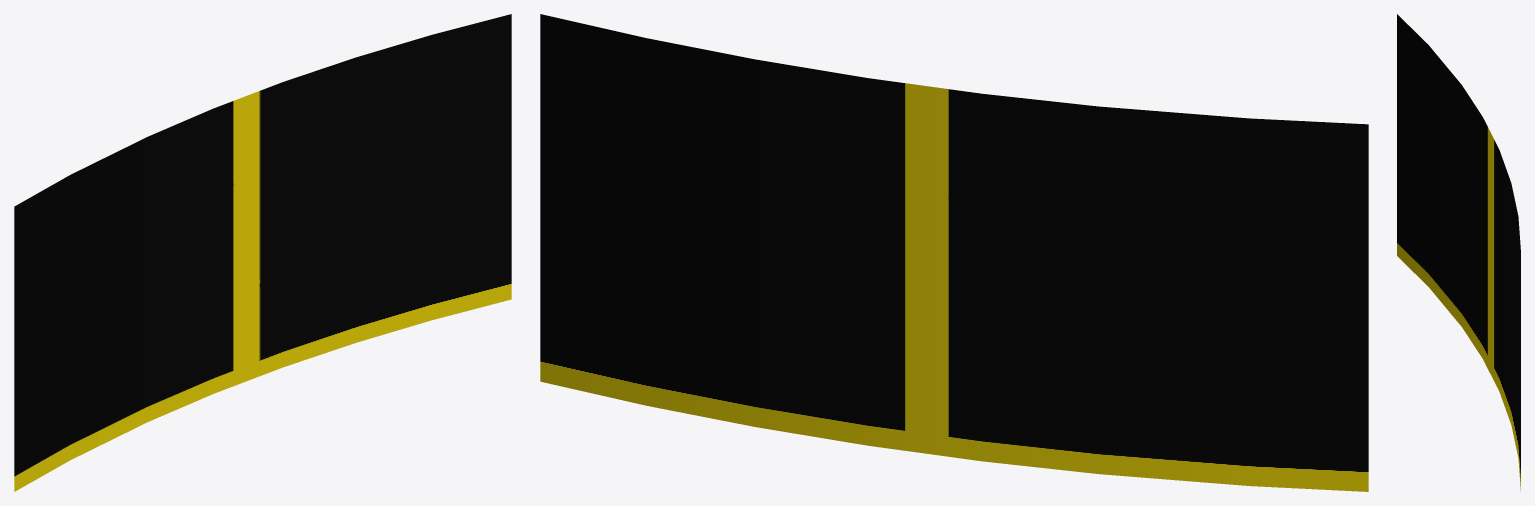
File: Wall-curved.fbx
The picture shows the model from 3 angles, left to right: view 1: azimuth 30°, elevation 25°; view 2: azimuth 150°, elevation 25°; view 3: azimuth 270°, elevation 25°; orthographic projection. The views are drawn at different scales.
Parts seen in each view (by area): view 1: Wall-Curved; view 2: Wall-Curved; view 3: Wall-Curved.
Part boxes in pixels (x1=…): Wall-Curved: x1=14, y1=14, x2=511, y2=491; Wall-Curved: x1=540, y1=14, x2=1368, y2=491; Wall-Curved: x1=1397, y1=14, x2=1520, y2=490.
Bounding box in the file's own units: 4345 × 2080 × 963.
